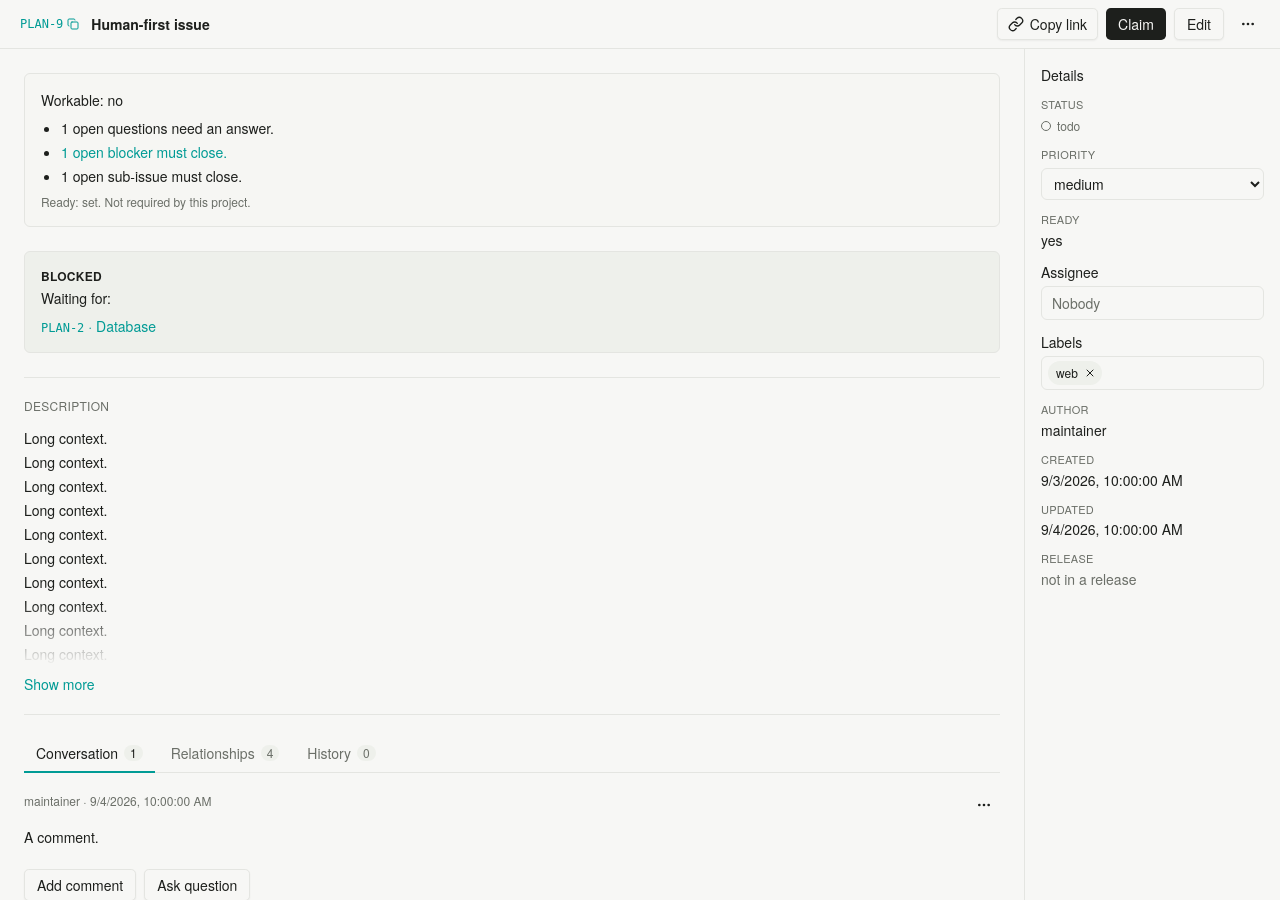
it: the human-first issue detail › explains a refused inline change and keeps the saved value
This screenshot has width=1280, height=900.
Step 1. Select "urgent" in the dropdown named "Priority" → (1152, 184), box [1041, 168, 1264, 200]
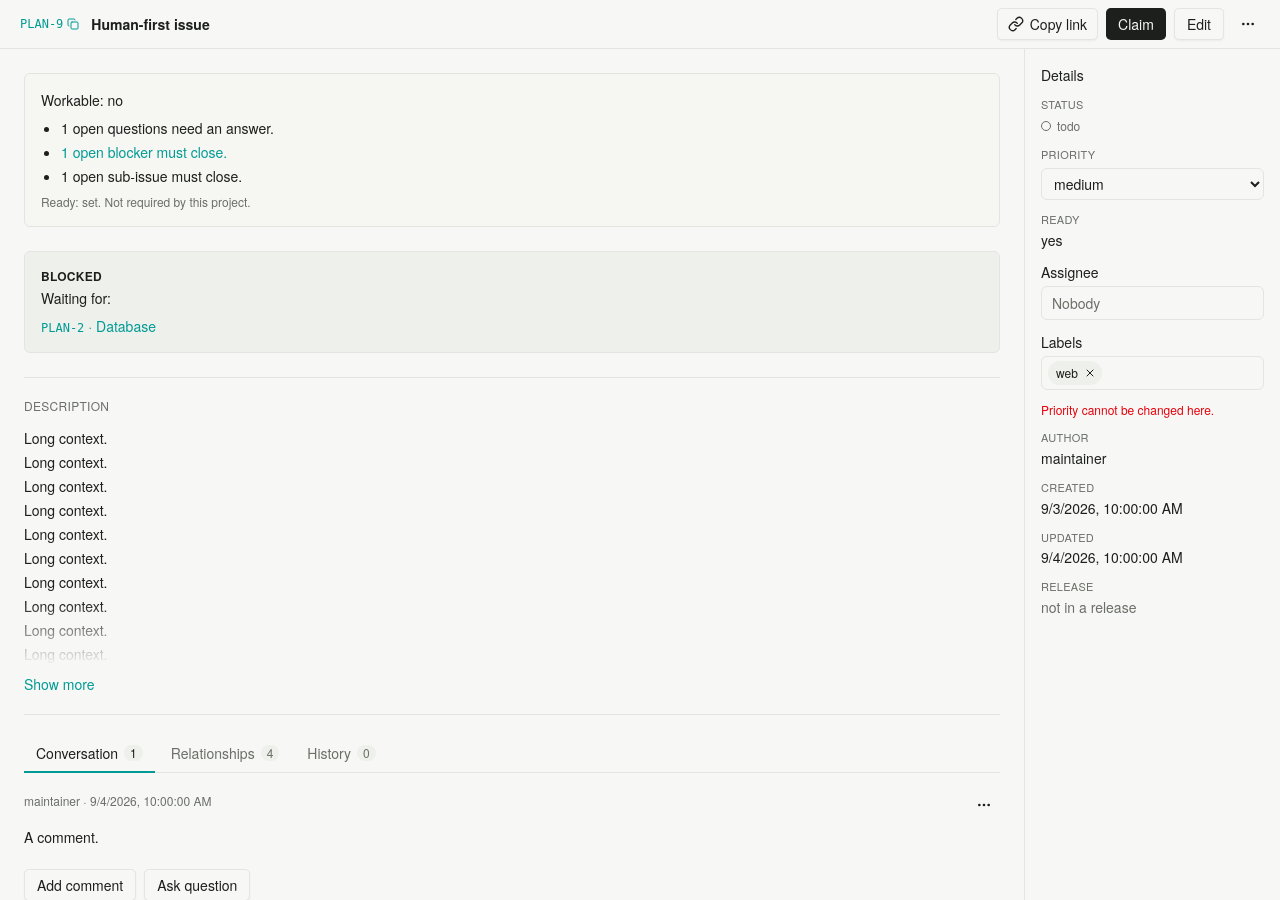
expect the message reads "Priority cannot be changed here.": met, box [1041, 401, 1214, 418]
